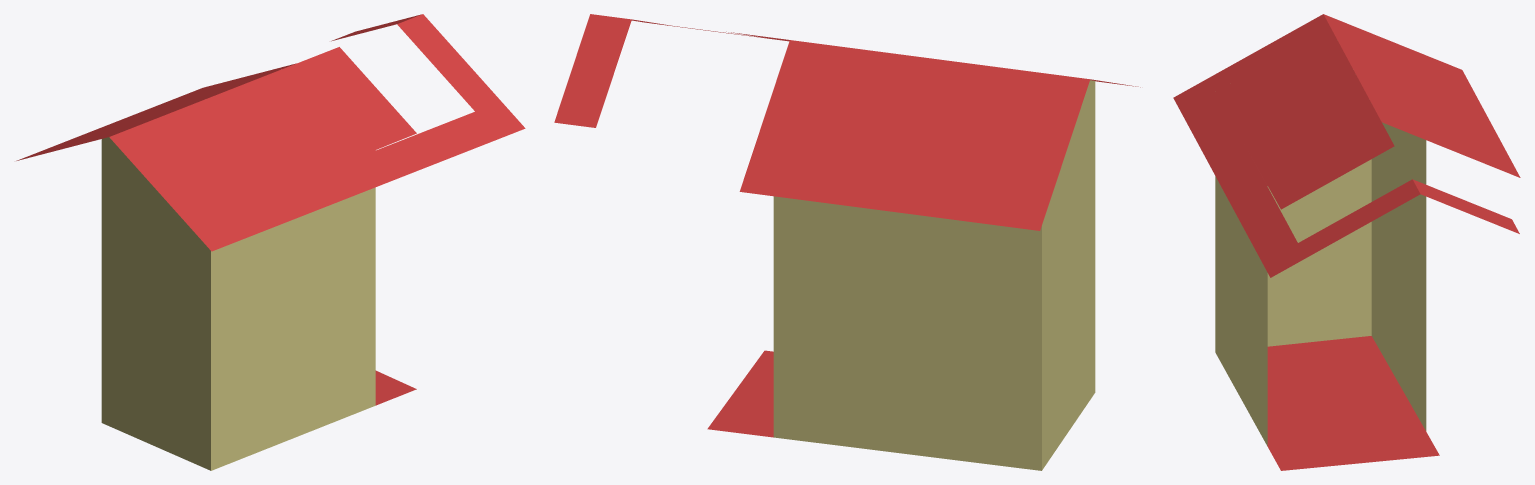
3 views of the same model, side by side, from view 1: azimuth 30°, elevation 25°; view 2: azimuth 150°, elevation 25°; view 3: azimuth 270°, elevation 25° (orthographic). The views are drawn at different scales.
Size of the model in its own units: 10.12 by 7.14 by 7.11.
